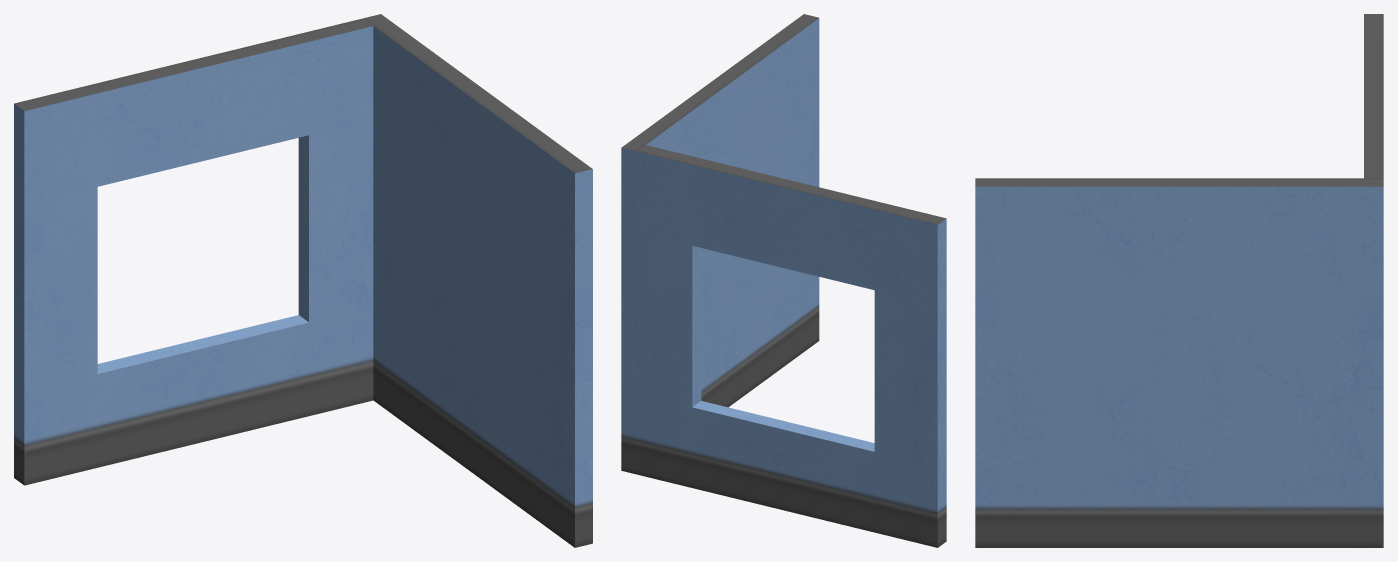
File: Wall_6_Corner_C.fbx
3 views of the same model, side by side, from view 1: azimuth 30°, elevation 25°; view 2: azimuth 150°, elevation 25°; view 3: azimuth 270°, elevation 25° (orthographic). The views are drawn at different scales.
Parts seen in each view (by area): view 1: polySurface40; view 2: polySurface40; view 3: polySurface40.
Part boxes in pixels (box(x1,y1,x2,y2)): polySurface40: box(14, 14, 592, 547); polySurface40: box(621, 14, 946, 547); polySurface40: box(975, 14, 1383, 547).
Size of the model in its own units: 4.1 by 4 by 4.1.
